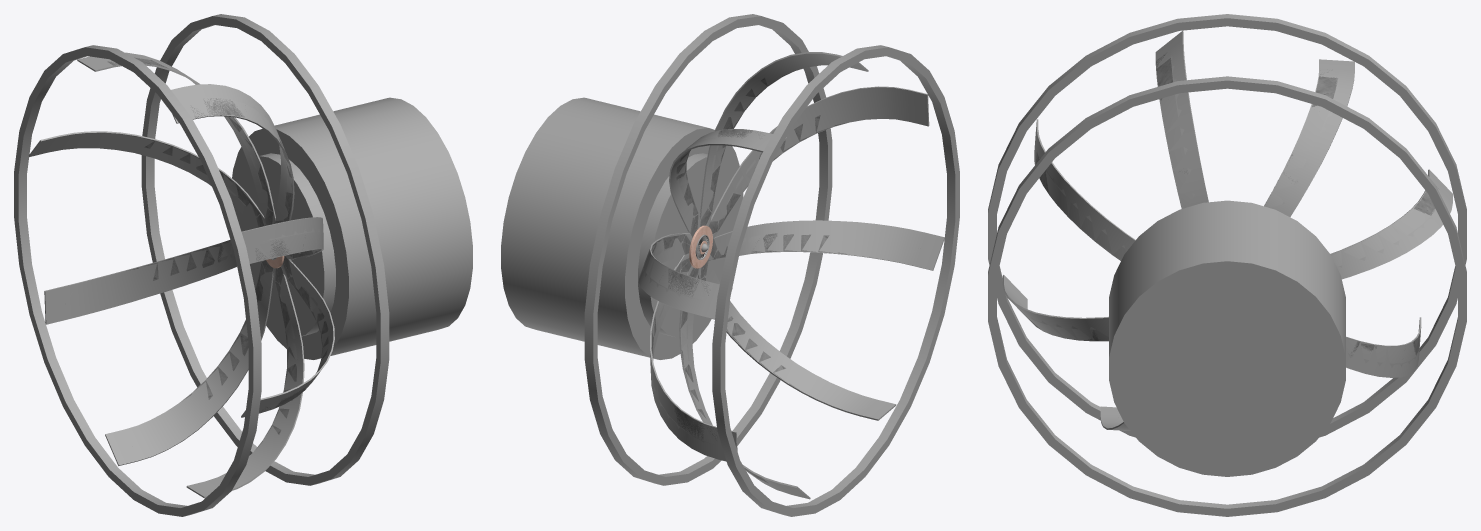
The model's file is Blender.fbx.
3 views of the same model, side by side, from view 1: azimuth 30°, elevation 25°; view 2: azimuth 150°, elevation 25°; view 3: azimuth 270°, elevation 25° (orthographic).
Parts seen in each view (by area): view 1: case1, ring2, ring1, Blade (×9), Blade3, Blade2, Blade4, Blade1, Blade7 (×2), Blade5, Blade6; view 2: case1, ring2, ring1, Blade (×8), Blade5, Blade4, Blade1 (×2), Blade7, Blade2 (×2), Blade6 (×2), Blade3, Frame; view 3: case1, ring1, ring2, Blade6 (×2), Blade7 (×2), Blade1 (×2), Blade (×2), Blade2 (×2), Blade5 (×2).
Boxes of the visible parts, x1=… form: case1: x1=232, y1=97, x2=472, y2=359; ring2: x1=14, y1=45, x2=261, y2=516; ring1: x1=141, y1=14, x2=389, y2=485; Blade (×9): x1=92, y1=57, x2=328, y2=448; Blade3: x1=105, y1=260, x2=273, y2=465; Blade2: x1=44, y1=239, x2=236, y2=324; Blade4: x1=186, y1=268, x2=304, y2=498; Blade1: x1=28, y1=131, x2=265, y2=228; Blade7 (×2): x1=171, y1=84, x2=294, y2=221; Blade5: x1=241, y1=256, x2=334, y2=417; Blade6: x1=77, y1=52, x2=273, y2=224; case1: x1=501, y1=97, x2=743, y2=359; ring2: x1=712, y1=45, x2=959, y2=516; ring1: x1=584, y1=14, x2=832, y2=485; Blade (×8): x1=650, y1=66, x2=929, y2=440; Blade5: x1=710, y1=220, x2=944, y2=270; Blade4: x1=700, y1=260, x2=896, y2=420; Blade1 (×2): x1=638, y1=232, x2=732, y2=319; Blade7: x1=699, y1=52, x2=868, y2=226; Blade2 (×2): x1=650, y1=253, x2=737, y2=461; Blade6 (×2): x1=669, y1=129, x2=786, y2=232; Blade3: x1=679, y1=266, x2=810, y2=499; Frame: x1=689, y1=225, x2=712, y2=268; case1: x1=1109, y1=200, x2=1345, y2=476; ring1: x1=988, y1=76, x2=1466, y2=516; ring2: x1=988, y1=14, x2=1466, y2=437; Blade6 (×2): x1=1264, y1=59, x2=1354, y2=216; Blade7 (×2): x1=1155, y1=31, x2=1208, y2=208; Blade1 (×2): x1=1330, y1=169, x2=1452, y2=279; Blade (×2): x1=1034, y1=119, x2=1135, y2=260; Blade2 (×2): x1=1346, y1=317, x2=1421, y2=377; Blade5 (×2): x1=1002, y1=275, x2=1108, y2=341.
Size of the model in its own units: 4086 by 6075 by 6042.
